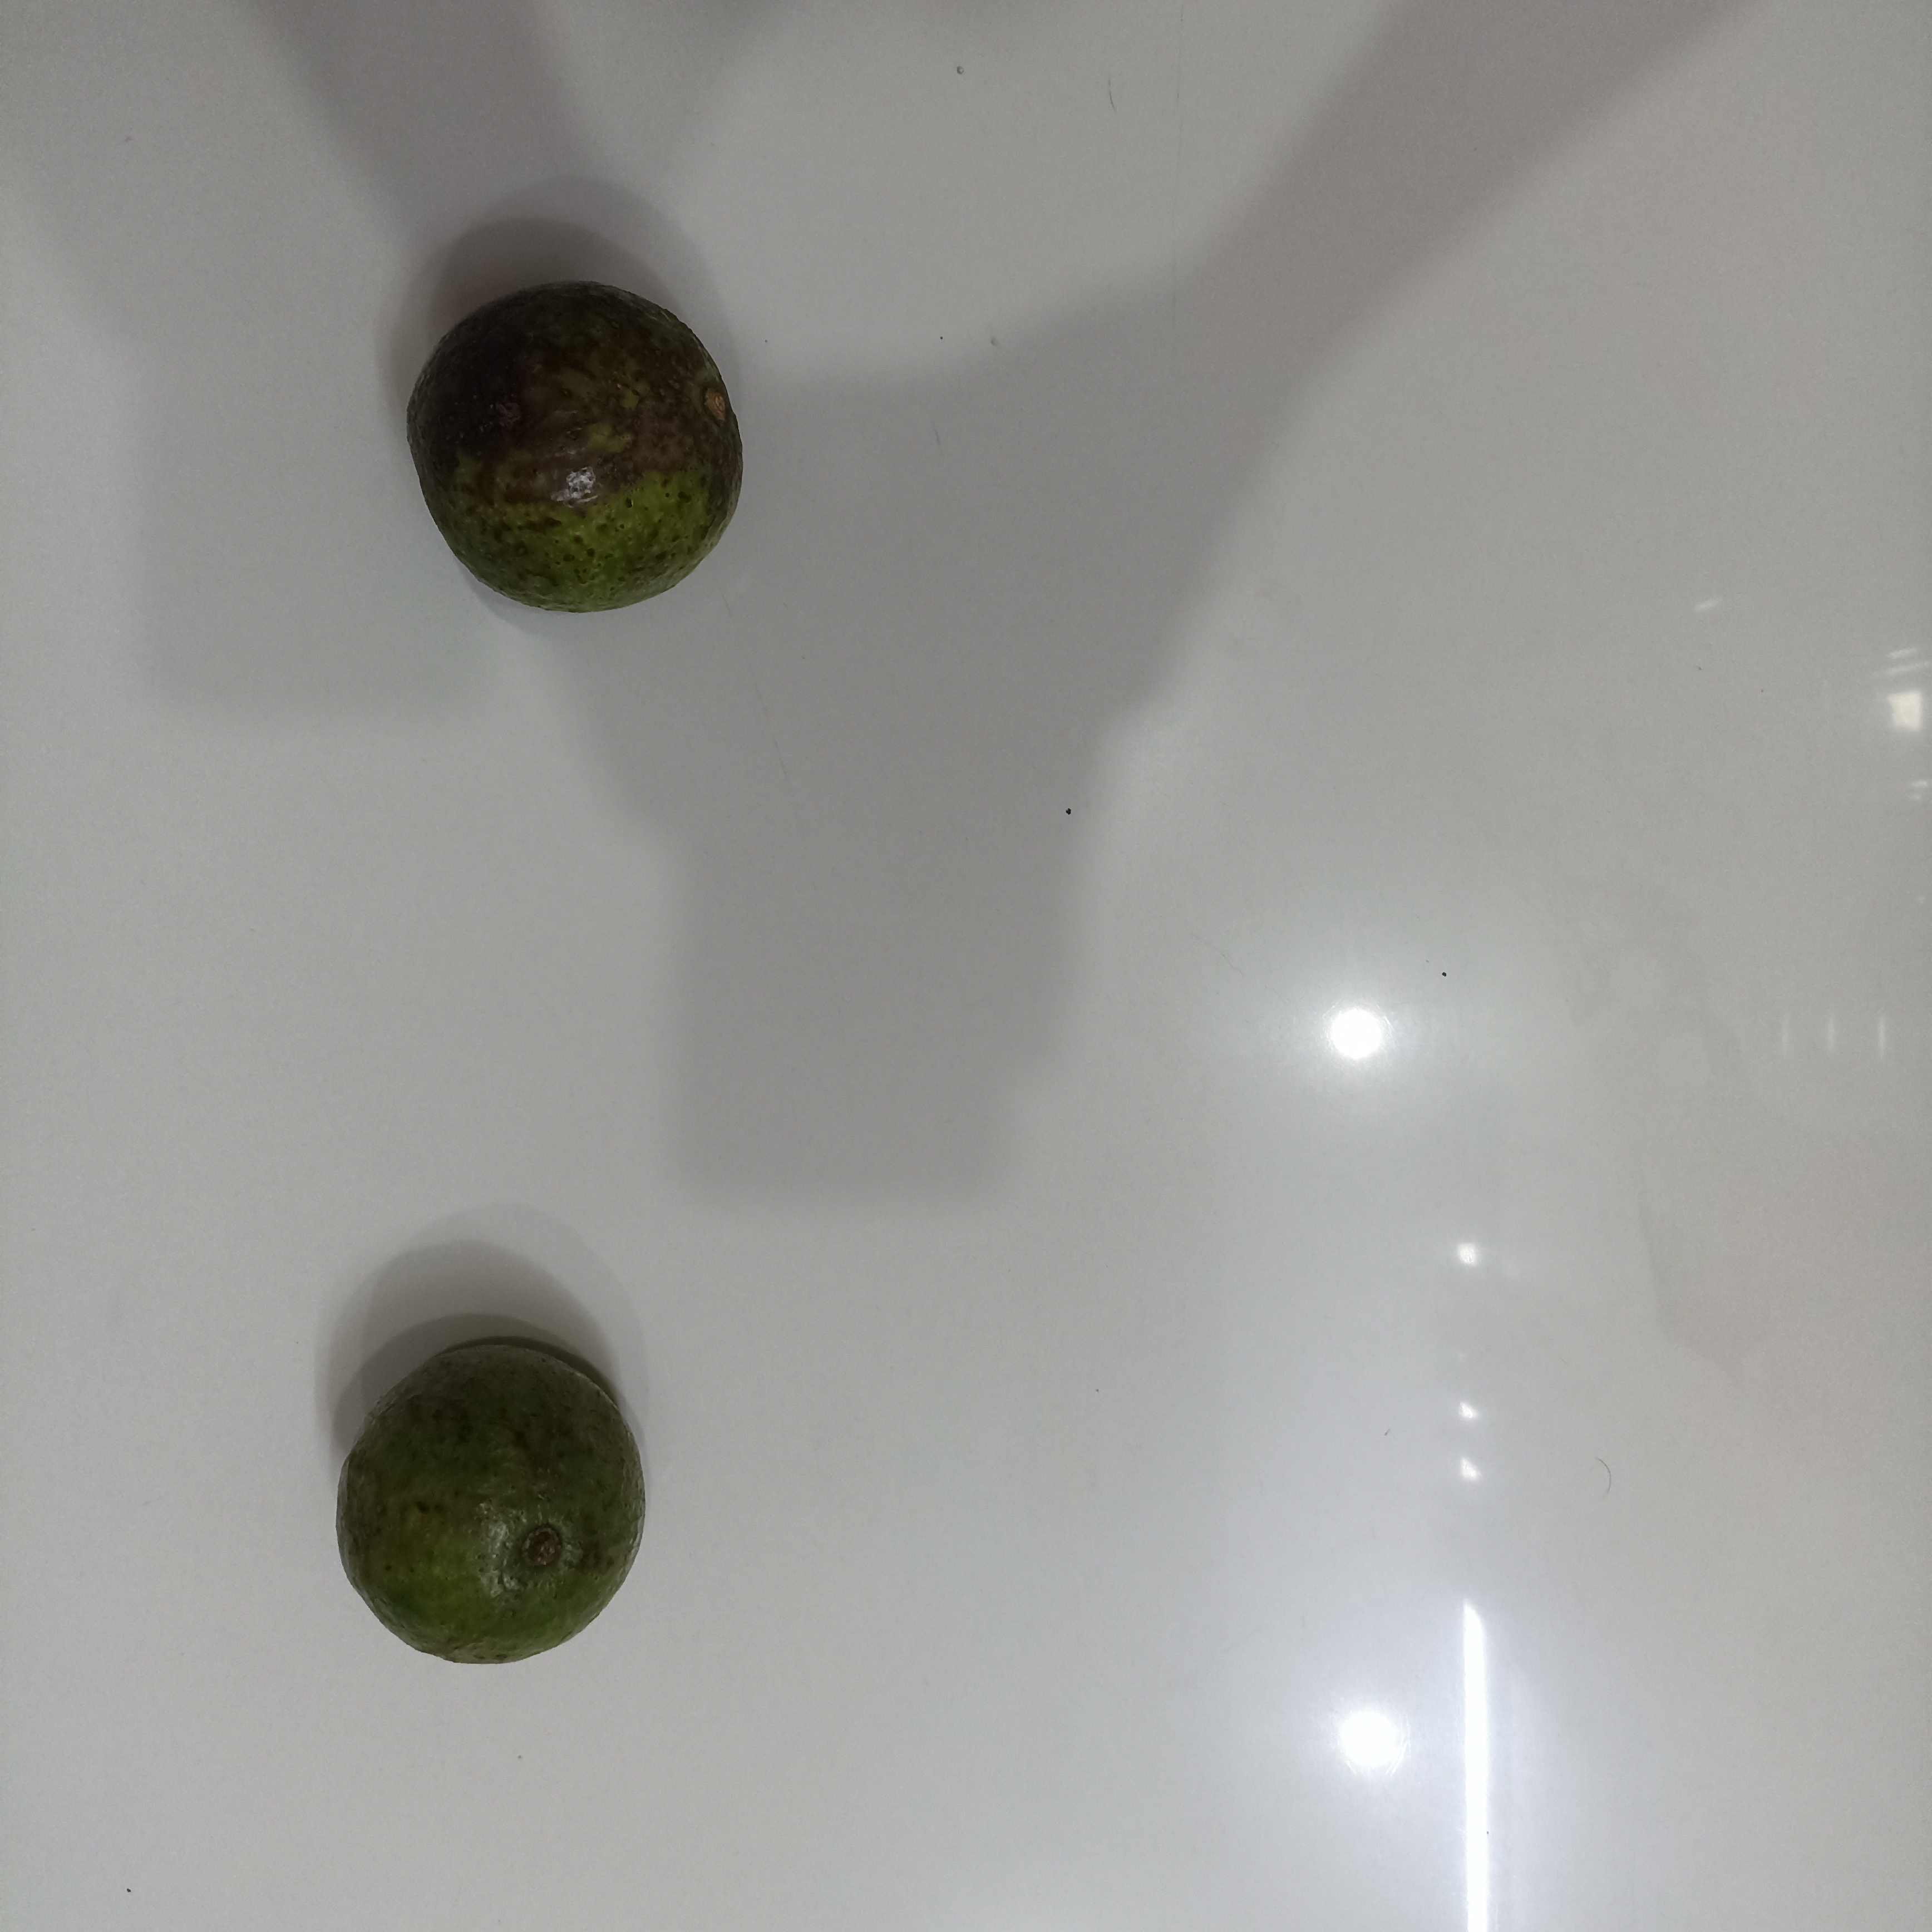Bo: (405, 274, 750, 622), (332, 1339, 650, 1674)
